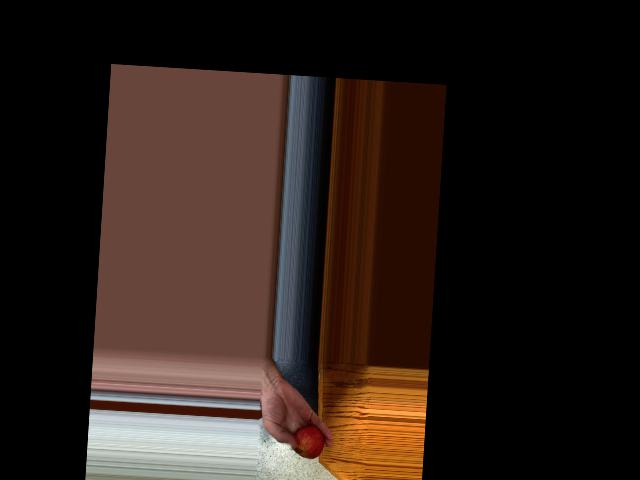apple: (289, 423, 324, 460)
